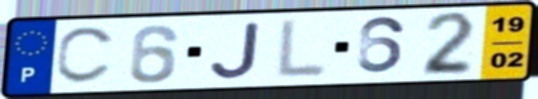2: (421, 9, 477, 79)
6: (127, 22, 181, 86), (356, 14, 407, 78)
C: (52, 24, 120, 87)
J: (208, 20, 264, 81)
L: (271, 16, 331, 81)
